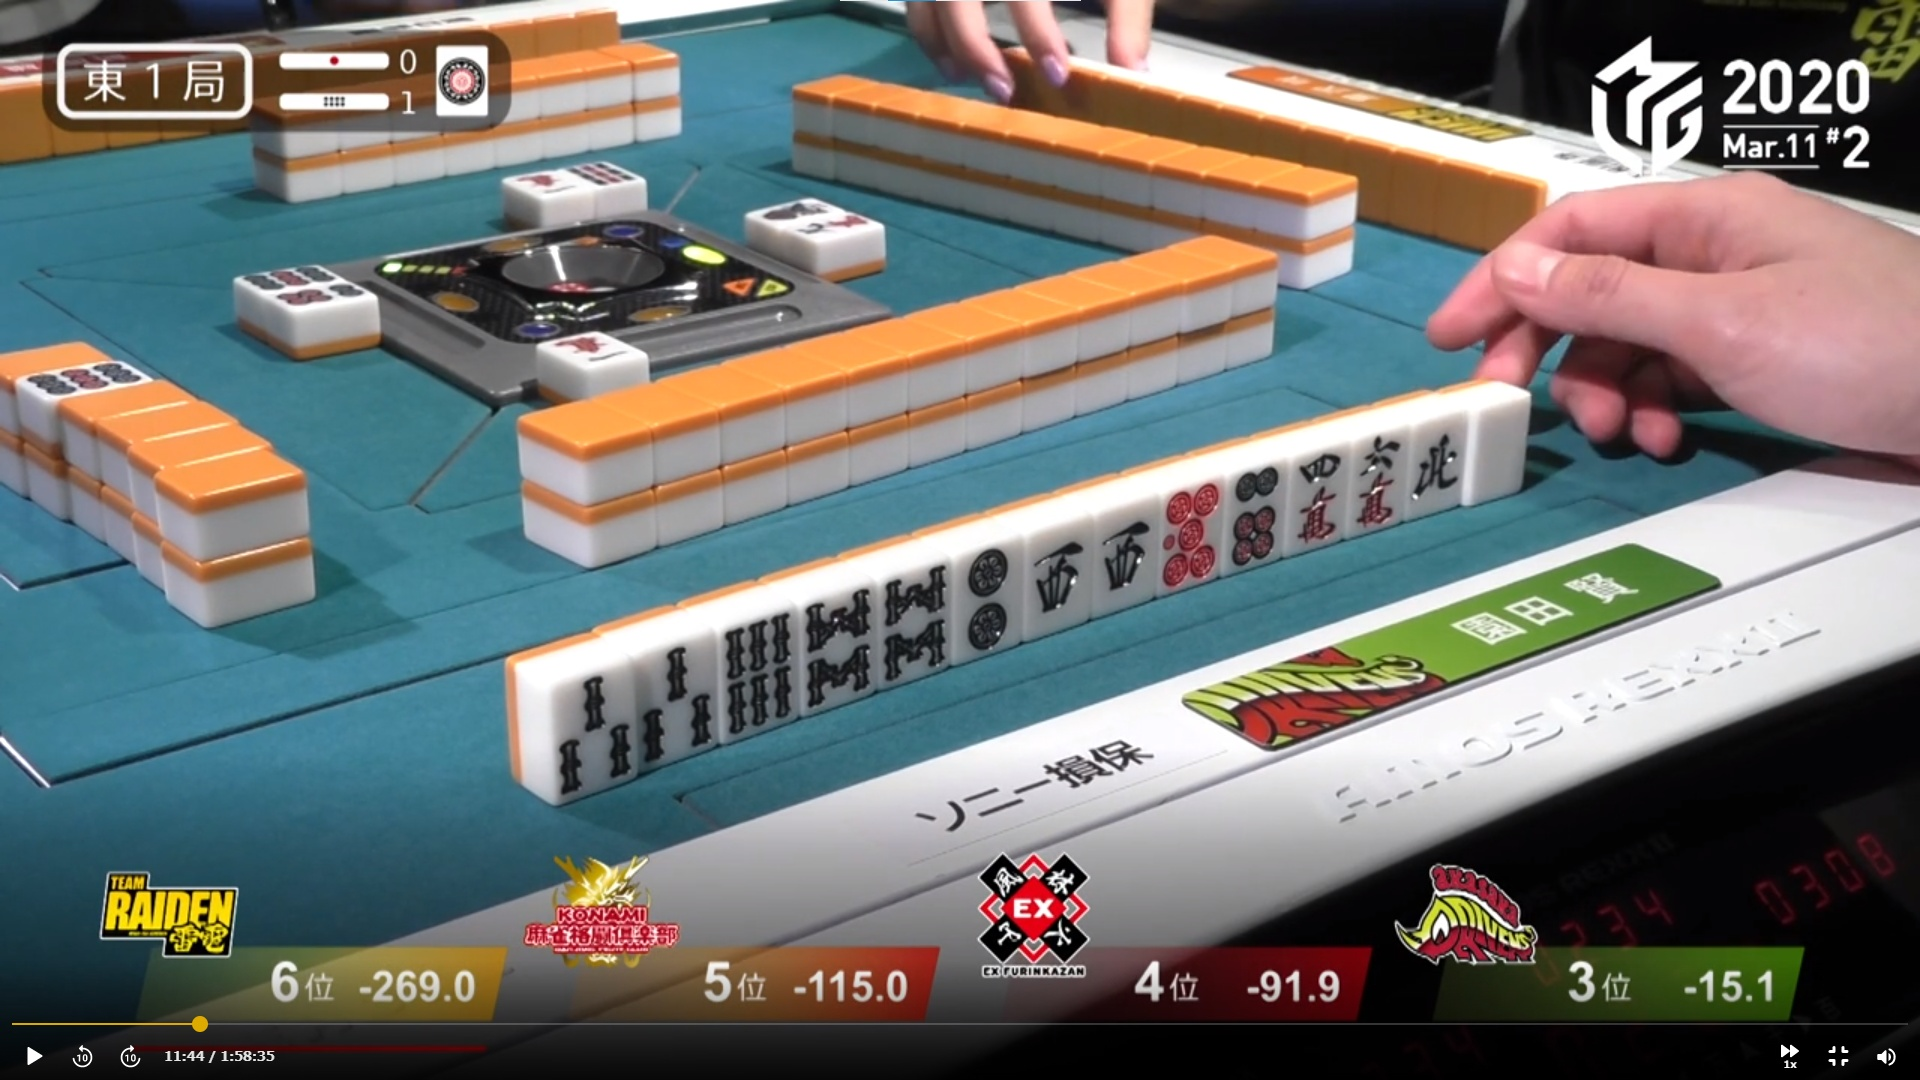2p: (949, 520, 1021, 655)
3s: (633, 612, 715, 760), (549, 646, 628, 793)
4m: (1290, 421, 1340, 553)
5pr: (1153, 463, 1218, 587)
6m: (1346, 407, 1400, 529)
6p: (1221, 442, 1276, 568)
6s: (716, 591, 798, 736)
8s: (870, 546, 949, 679), (798, 568, 872, 707)
haku: (1466, 375, 1526, 505)
hand_ton_1: (51, 41, 256, 124)
pei: (1404, 390, 1458, 513)
round_1: (264, 88, 423, 120)
sha: (1088, 479, 1150, 611), (1025, 504, 1087, 634)
team_drivens: (1175, 628, 1455, 750)
